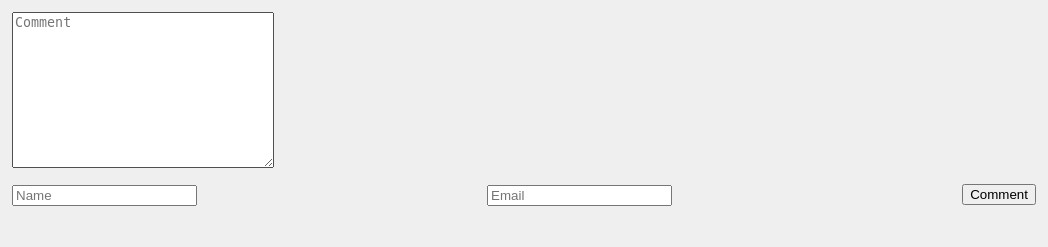
Test: comments form › rendering errors when trying to submit without filling the fields
The width and height of the screenshot is (1048, 247).
Click the button at coordinates (999, 194), box [962,184,1036,205]
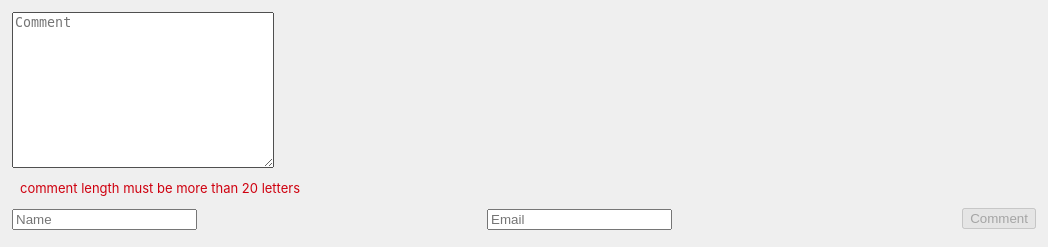
Result: the text "comment length must be more than 20 letters" is shown at [20,180,300,196]
Type "Hello this is random comment which length is more than twenty letters" into the text box with placeholder "Comment" at coordinates (143, 90), box [12,12,274,168]
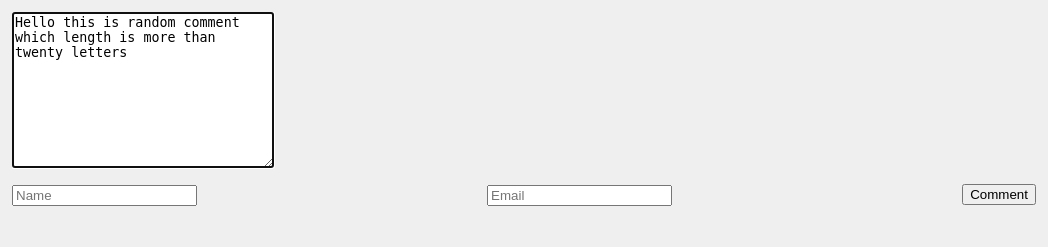
Result: the text "comment length must be more than 20 letters" is gone
Click the button at coordinates (999, 194), box [962,184,1036,205]
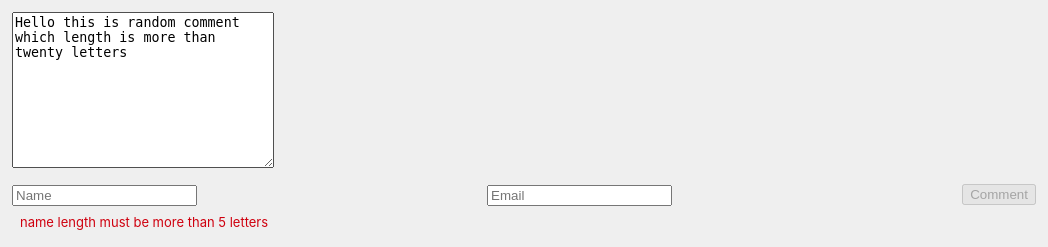
Result: the text "name length must be more than 5 letters" is shown at [20,214,268,230]
Type "Mohammed" into the field with placeholder "Name" at coordinates (104, 196), box [12,185,197,206]
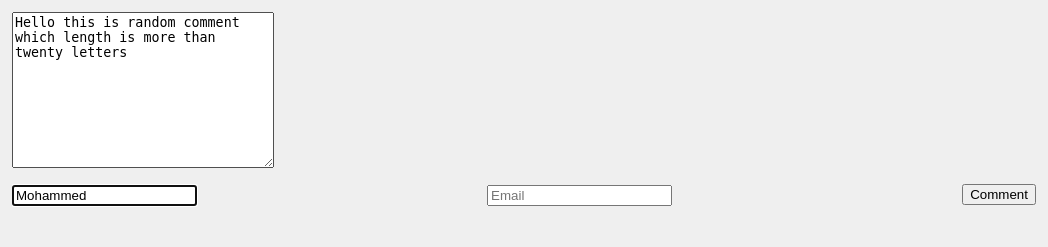
Result: the text "name length must be more than 5 letters" is gone
Click the button at coordinates (999, 194), box [962,184,1036,205]
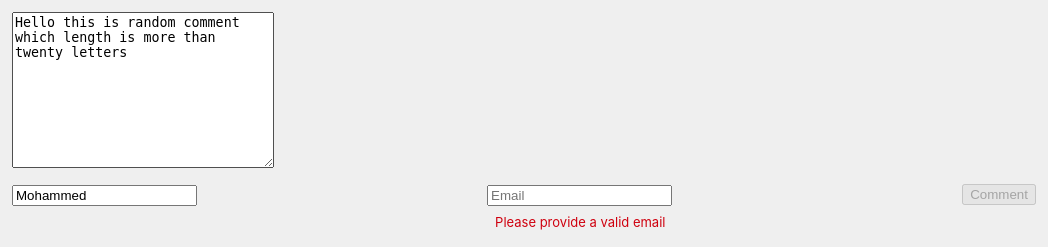
Result: the text "Please provide a valid email" is shown at [495,214,666,230]
Type "random@test.com" into the field with placeholder "Email" at coordinates (580, 196), box [487,185,672,206]
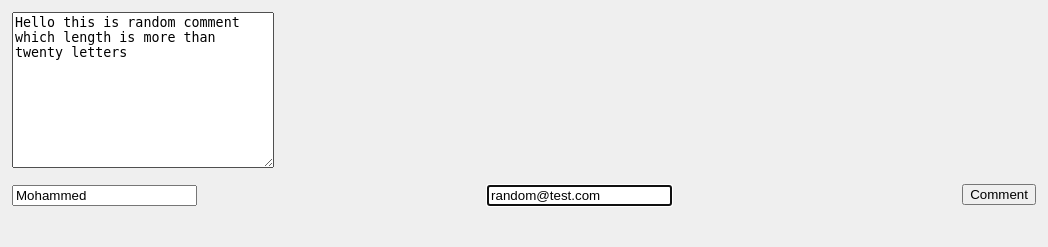
Result: the text "Please provide a valid email" is gone
